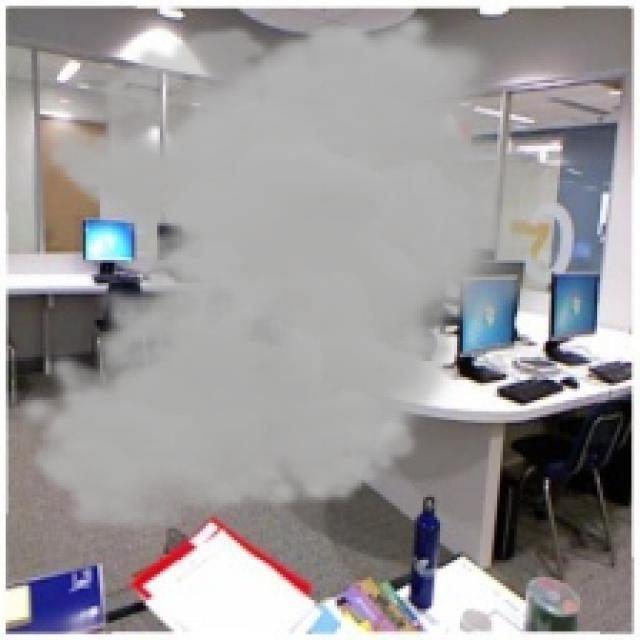Smoke: (11, 8, 560, 534)
